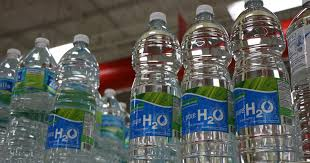Botella: (130, 0, 298, 161), (46, 34, 98, 149)
